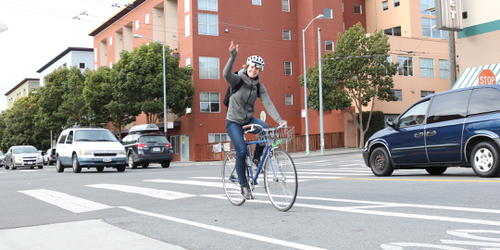bikerider: (213, 30, 318, 226)
